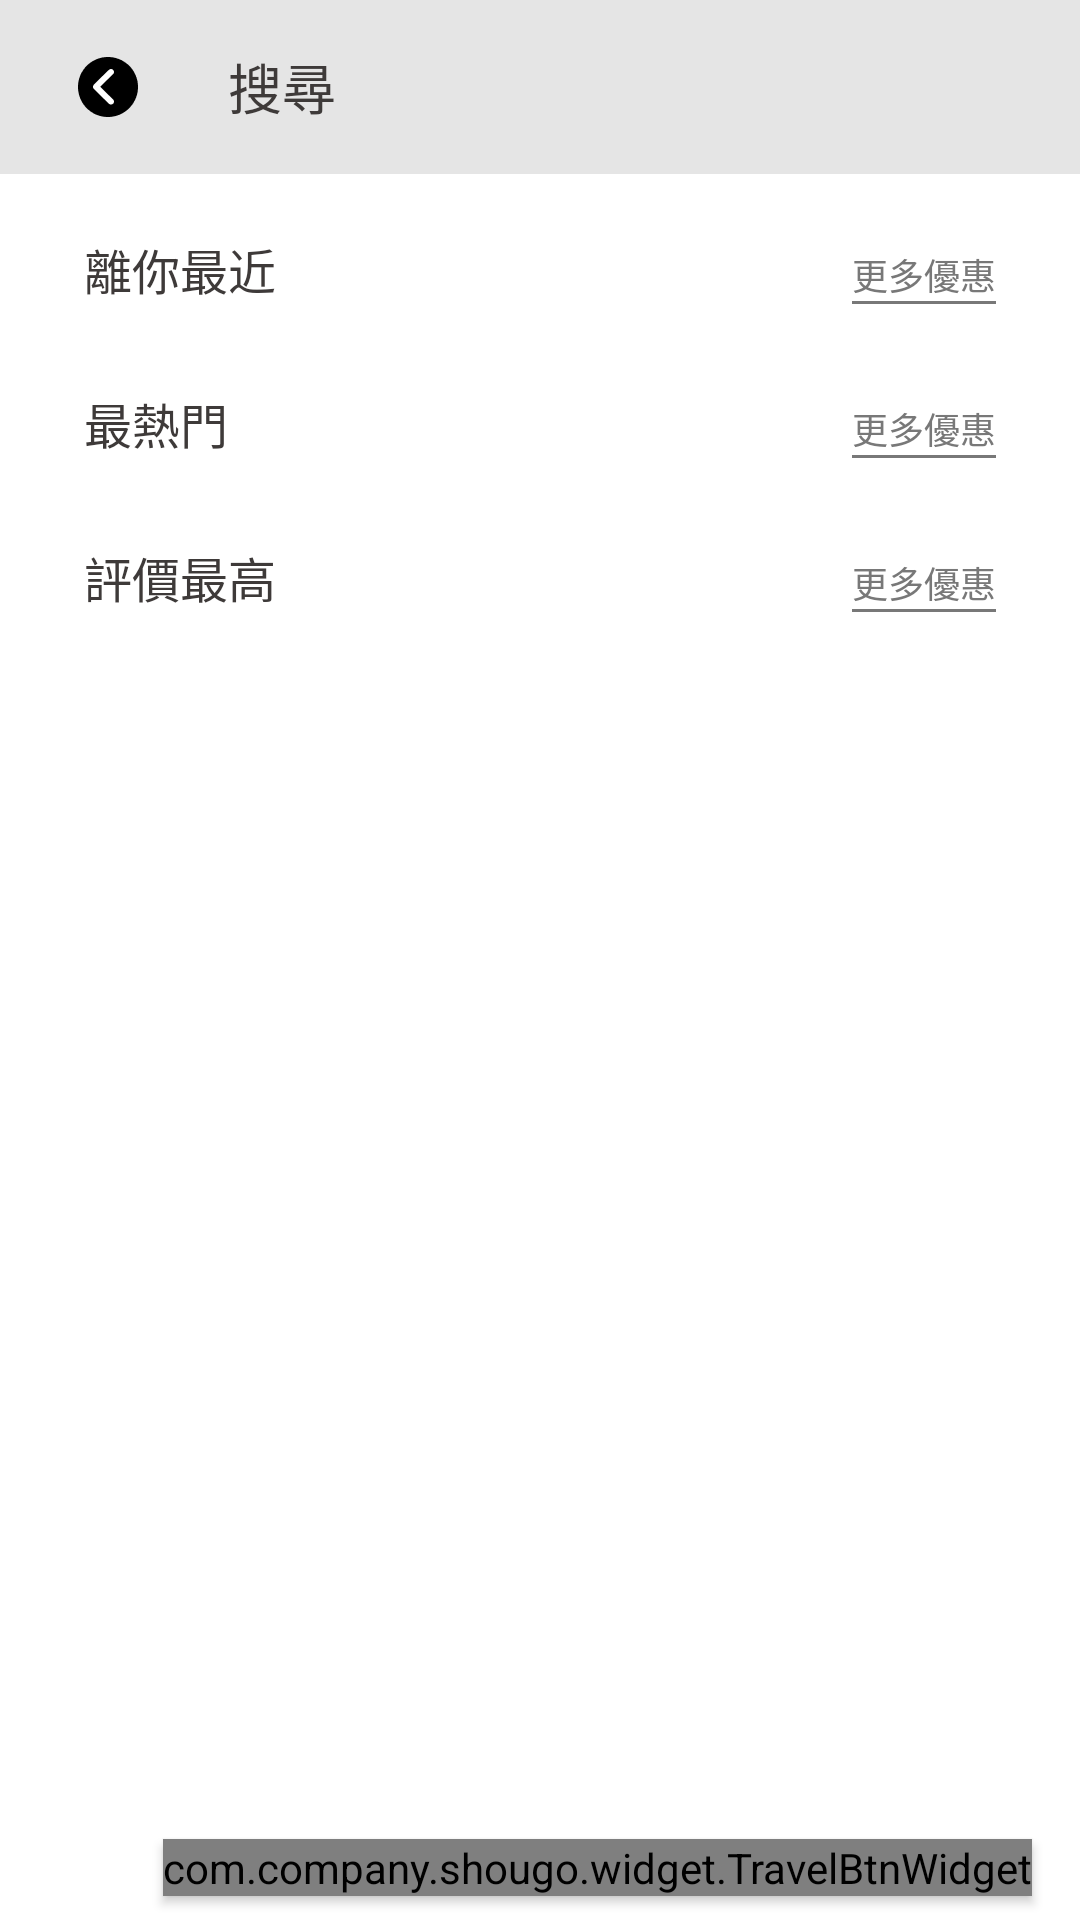

Screen size 1080w x 1920h. Icon name, then its center in pixels as (x,y):
back: (108,87)
